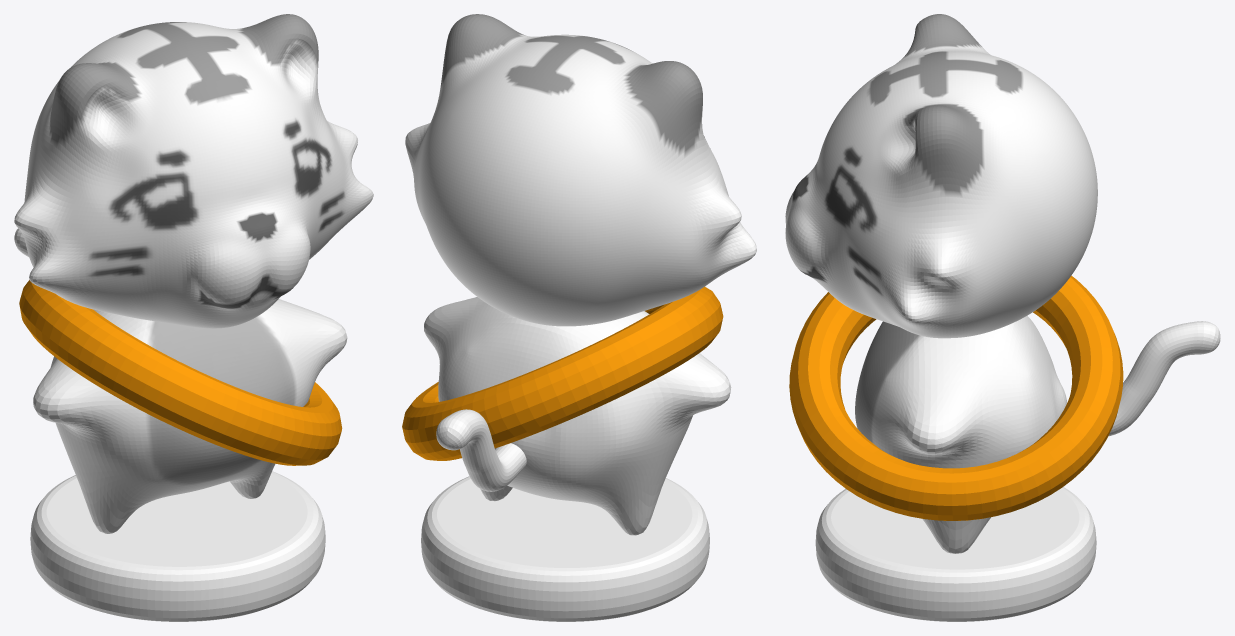
File: flakes.glb
3 renders of one model, left to right at view 1: azimuth 30°, elevation 25°; view 2: azimuth 150°, elevation 25°; view 3: azimuth 270°, elevation 25°, orthographic. The views are drawn at different scales.
Parts seen in each view (by area): view 1: Quad Sphere (×4), Cylinder (×2), Torus; view 2: Quad Sphere (×4), Cylinder (×2), Torus, Tube; view 3: Quad Sphere (×4), Torus, Cylinder (×2), Tube.
Part boxes in pixels (<box>): Quad Sphere (×4): <box>14,14,373,533</box>; Cylinder (×2): <box>30,471,325,621</box>; Torus: <box>19,280,342,465</box>; Quad Sphere (×4): <box>405,14,756,535</box>; Cylinder (×2): <box>421,476,709,621</box>; Torus: <box>402,286,723,460</box>; Tube: <box>436,409,526,491</box>; Quad Sphere (×4): <box>785,14,1097,553</box>; Torus: <box>789,275,1123,520</box>; Cylinder (×2): <box>815,487,1096,621</box>; Tube: <box>1108,321,1220,436</box>.
Size of the model in its own units: 1.32 by 1.96 by 1.53.
